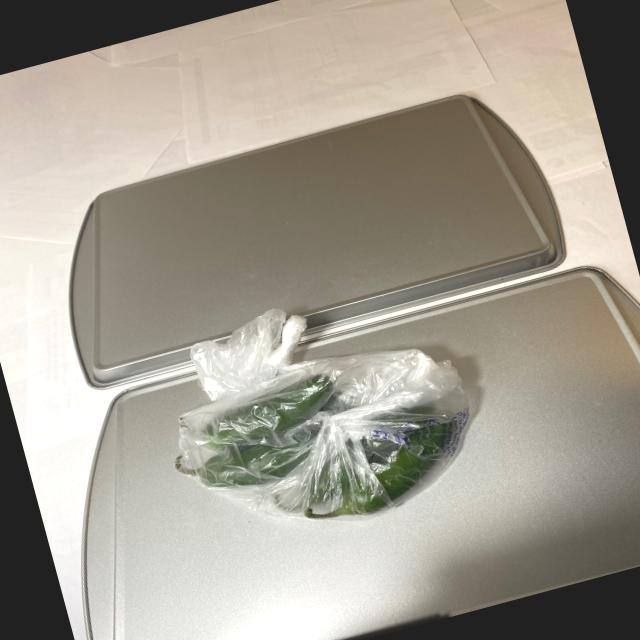chilli: (151, 320, 495, 566)
